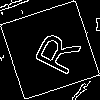R: (25, 25, 82, 78)
